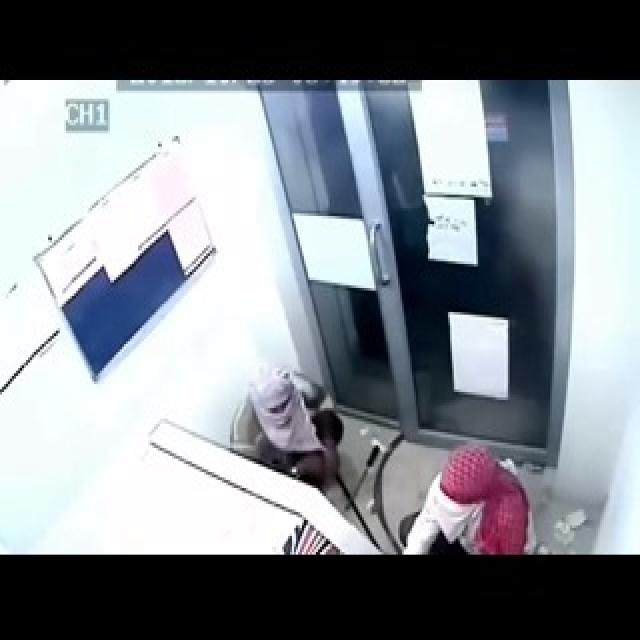thief: (234, 329, 356, 500), (380, 441, 546, 551)
